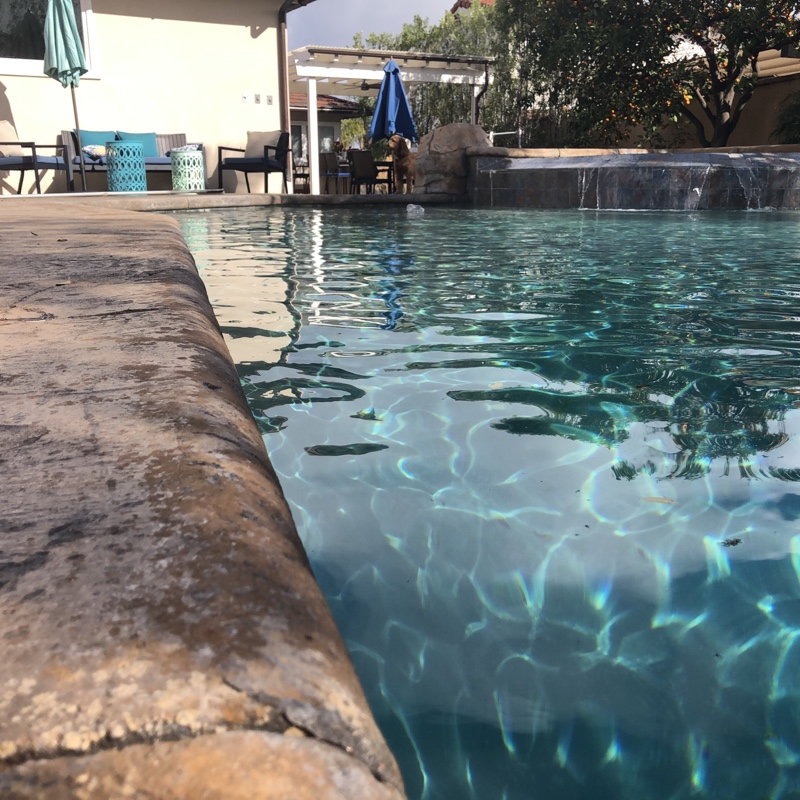Plastic Bottle: (401, 200, 426, 220)
